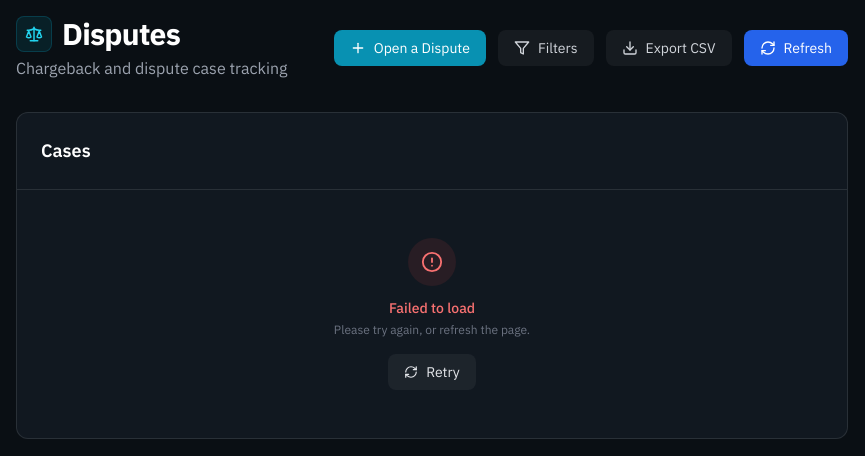
Test: DisputesPage — regular user › shows an error state with a working retry
The image size is (865, 456).
Expected: the text "Failed to load" is shown, [389,299,475,317]
Click the button "Retry" at (432,372), box [388,354,476,390]
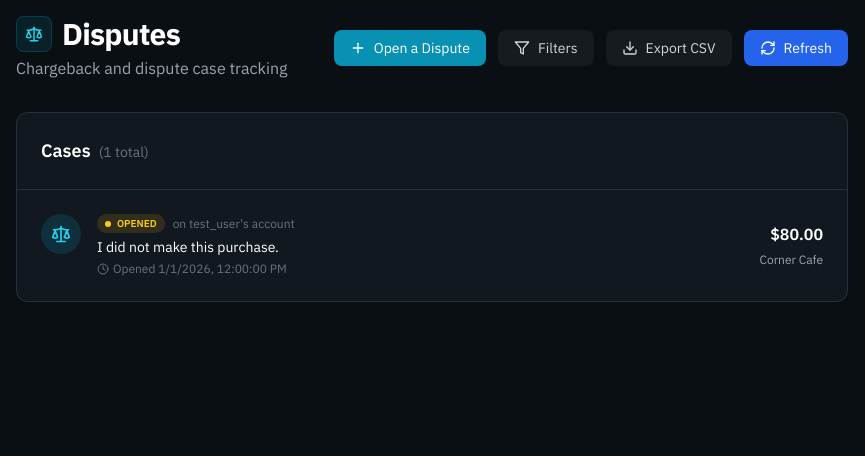
Expected: the text "Corner Cafe" is shown, [760,252,823,266]
